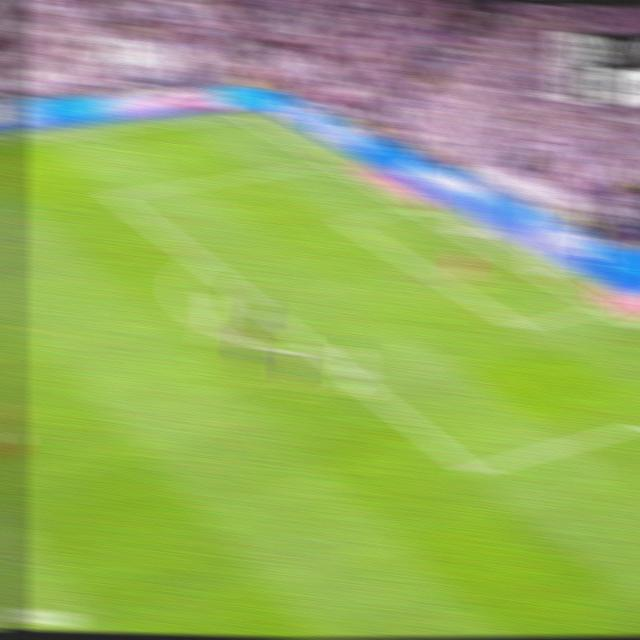bigarea_bottom_inner: (457, 454, 485, 486)
bigarea_top_inner: (105, 186, 127, 206)
bigarea_top_outter: (316, 153, 339, 169)
bottom_arc_area_intersection: (306, 339, 333, 368)
corner: (229, 107, 254, 122)
smallarea_top_inner: (334, 213, 356, 230)
top_arc_area_intersection: (186, 247, 211, 271)
